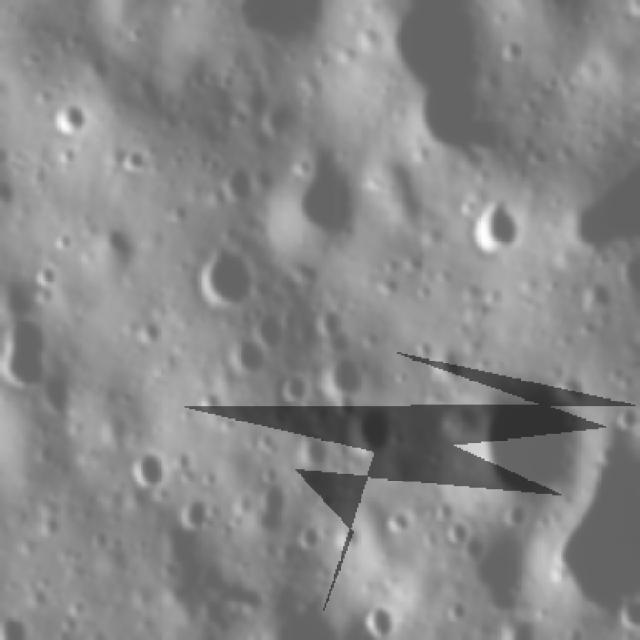crater: (478, 380, 592, 511), (285, 143, 363, 249), (195, 240, 259, 312), (1, 312, 54, 396), (463, 198, 528, 260), (340, 399, 398, 464), (246, 470, 289, 533), (129, 445, 180, 498), (224, 334, 273, 386), (318, 348, 369, 395), (171, 487, 218, 535), (250, 309, 296, 356), (292, 424, 338, 471), (54, 96, 98, 142), (214, 162, 258, 208), (270, 369, 313, 416), (355, 597, 399, 638), (130, 312, 168, 348), (580, 276, 614, 313), (439, 592, 472, 630), (293, 520, 330, 552), (441, 512, 473, 548), (30, 256, 61, 290), (119, 142, 146, 181), (382, 504, 416, 534), (615, 396, 637, 442), (463, 536, 491, 564), (502, 35, 523, 67), (540, 70, 565, 93)
